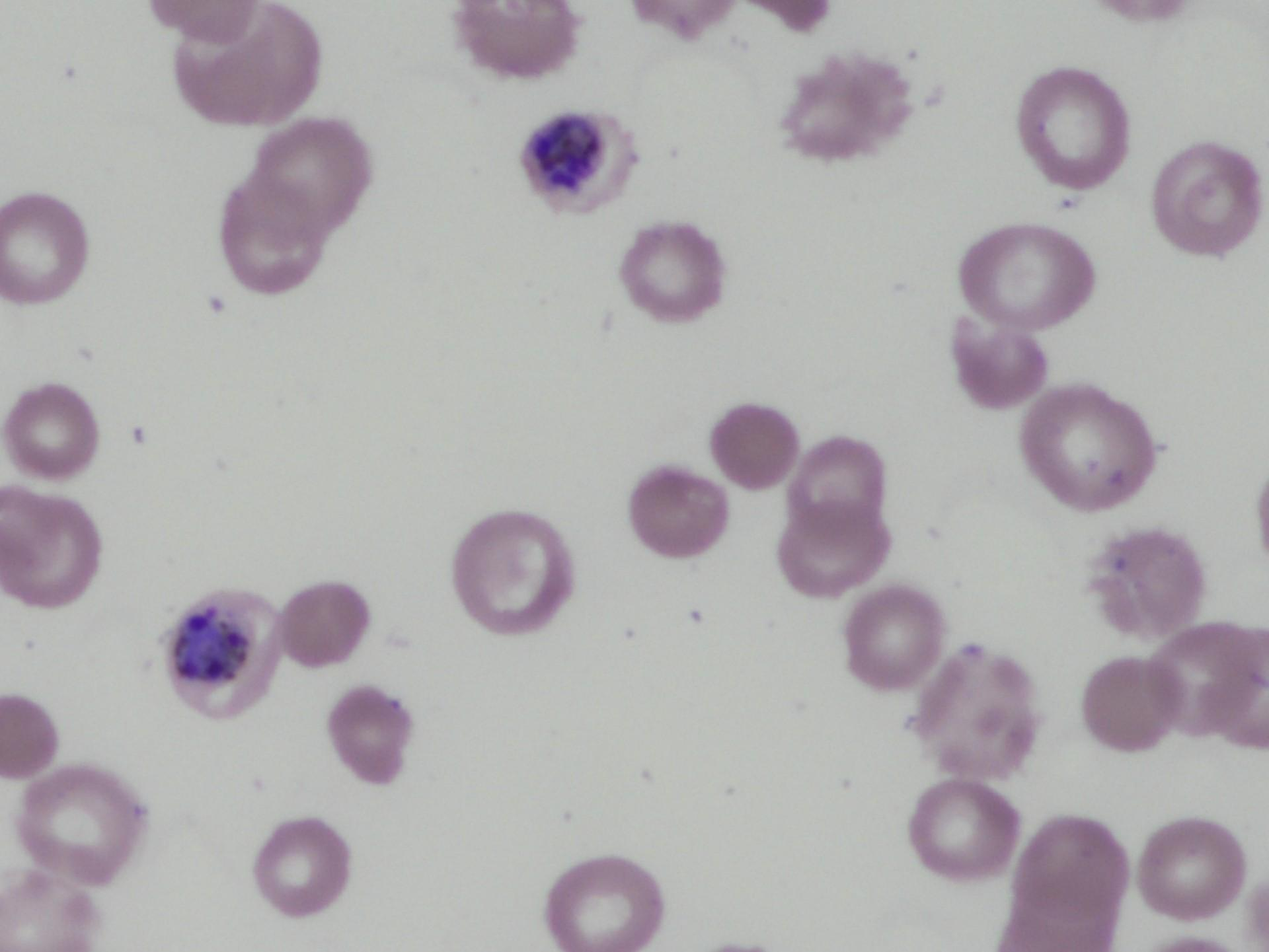Infected: (165, 592, 284, 718), (521, 108, 632, 211)
Uninfected: (221, 118, 366, 291), (172, 5, 317, 126), (997, 817, 1125, 951), (909, 647, 1036, 780), (1020, 386, 1152, 508), (17, 764, 143, 887), (458, 507, 574, 635), (783, 54, 914, 161), (1154, 622, 1266, 745), (960, 225, 1091, 329), (1019, 69, 1128, 184), (1, 486, 103, 607), (1088, 531, 1202, 639), (1152, 143, 1260, 252), (0, 184, 93, 309), (546, 856, 660, 951), (1138, 818, 1243, 918), (910, 781, 1017, 875), (253, 817, 351, 917), (621, 228, 726, 320), (777, 508, 884, 597), (846, 587, 942, 686), (453, 1, 576, 77), (629, 466, 729, 558), (1084, 659, 1181, 753), (4, 386, 93, 483), (790, 437, 888, 524), (1, 869, 101, 951), (952, 318, 1046, 404), (328, 687, 410, 783), (710, 404, 798, 488), (279, 583, 367, 665), (153, 1, 264, 48), (0, 694, 57, 774), (630, 1, 732, 39), (737, 0, 827, 31), (1104, 0, 1186, 20)
